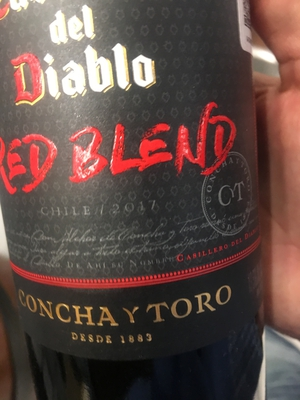casillero del diablo red blend: (4, 8, 268, 400)
